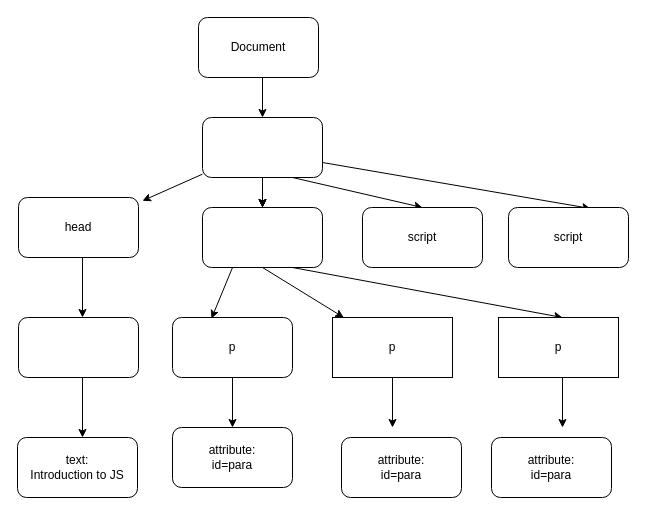
This 646x515 diagram has some shape labels left out. The shapes that lost their labels are listed below. From the top down, each one's centre as x and y in pixels, then its label:
(262,147): html
(262,237): body
(78,347): title
